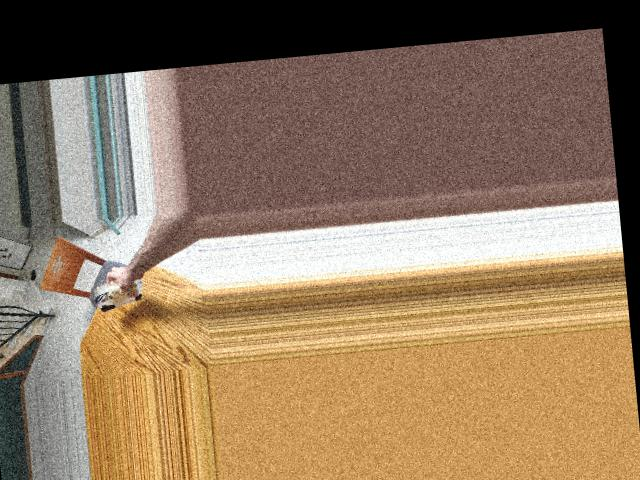cheese: (95, 275, 144, 312)
